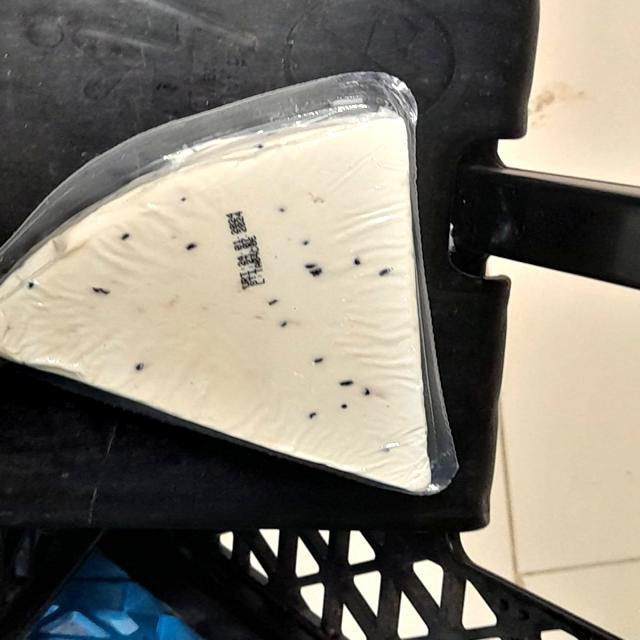cheese: (4, 91, 433, 504)
